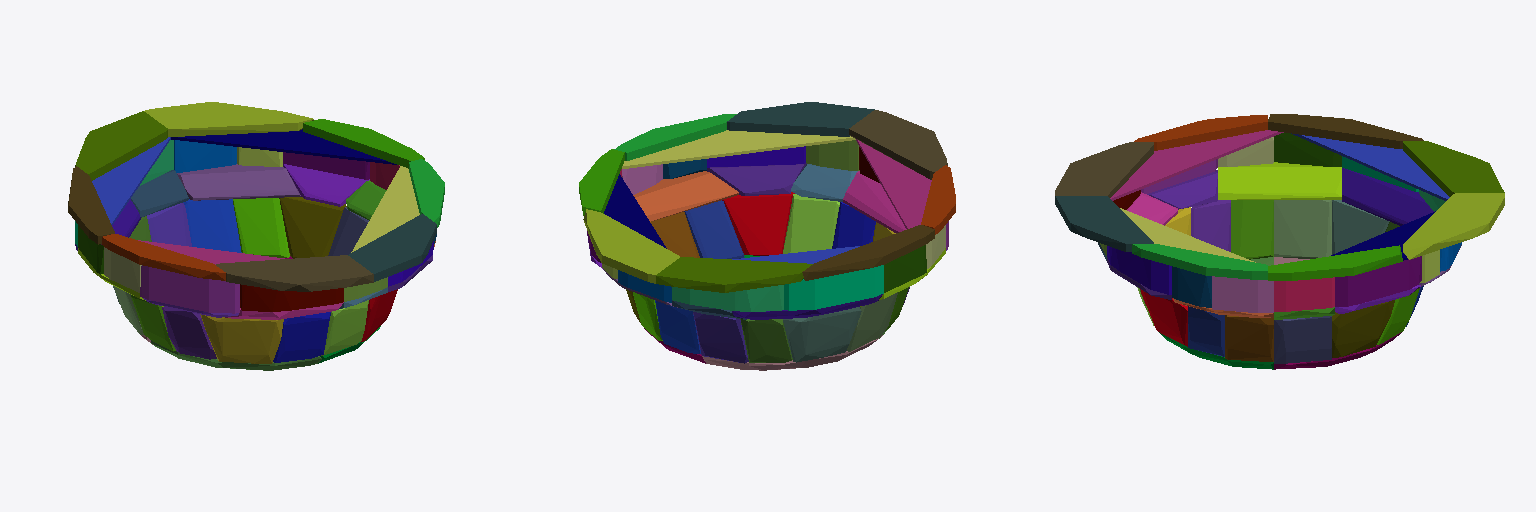
File: green_bowl.obj
The picture shows the model from 3 angles: view 1: azimuth 30°, elevation 25°; view 2: azimuth 150°, elevation 25°; view 3: azimuth 270°, elevation 25°; orthographic projection.
Parts seen in each view (by area): view 1: Shape_IndexedFaceSet.030_Shape_IndexedFaceSet.344, Shape_IndexedFaceSet.036_Shape_IndexedFaceSet.350, Shape_IndexedFaceSet.028_Shape_IndexedFaceSet.342, Shape_IndexedFaceSet.034_Shape_IndexedFaceSet.348, Shape_IndexedFaceSet.038_Shape_IndexedFaceSet.352, Shape_IndexedFaceSet.031_Shape_IndexedFaceSet.345, Shape_IndexedFaceSet.008_Shape_IndexedFaceSet.322, Shape_IndexedFaceSet.023_Shape_IndexedFaceSet.337, Shape_IndexedFaceSet.007_Shape_IndexedFaceSet.321, Shape_IndexedFaceSet.021_Shape_IndexedFaceSet.335, Shape_IndexedFaceSet.035_Shape_IndexedFaceSet.349, Shape_IndexedFaceSet.020_Shape_IndexedFaceSet.334 (+28 smaller); view 2: Shape_IndexedFaceSet.034_Shape_IndexedFaceSet.348, Shape_IndexedFaceSet.030_Shape_IndexedFaceSet.344, Shape_IndexedFaceSet.031_Shape_IndexedFaceSet.345, Shape_IndexedFaceSet.036_Shape_IndexedFaceSet.350, Shape_IndexedFaceSet.005_Shape_IndexedFaceSet.319, Shape_IndexedFaceSet.013_Shape_IndexedFaceSet.327, Shape_IndexedFaceSet.050_Shape_IndexedFaceSet.364, Shape_IndexedFaceSet.026_Shape_IndexedFaceSet.340, Shape_IndexedFaceSet.017_Shape_IndexedFaceSet.331, Shape_IndexedFaceSet.033_Shape_IndexedFaceSet.347, Shape_IndexedFaceSet.004_Shape_IndexedFaceSet.318, Shape_IndexedFaceSet.012_Shape_IndexedFaceSet.326 (+25 smaller); view 3: Shape_IndexedFaceSet.039_Shape_IndexedFaceSet.353, Shape_IndexedFaceSet.036_Shape_IndexedFaceSet.350, Shape_IndexedFaceSet.016_Shape_IndexedFaceSet.330, Shape_IndexedFaceSet.030_Shape_IndexedFaceSet.344, Shape_IndexedFaceSet.004_Shape_IndexedFaceSet.318, Shape_IndexedFaceSet.031_Shape_IndexedFaceSet.345, Shape_IndexedFaceSet.034_Shape_IndexedFaceSet.348, Shape_IndexedFaceSet.049_Shape_IndexedFaceSet.363, Shape_IndexedFaceSet.033_Shape_IndexedFaceSet.347, Shape_IndexedFaceSet.006_Shape_IndexedFaceSet.320, Shape_IndexedFaceSet.035_Shape_IndexedFaceSet.349, Shape_IndexedFaceSet.051_Shape_IndexedFaceSet.365 (+25 smaller).
Part boxes in pixels (x1,y1,x2,y2): Shape_IndexedFaceSet.030_Shape_IndexedFaceSet.344: (216, 255, 373, 291); Shape_IndexedFaceSet.036_Shape_IndexedFaceSet.350: (144, 102, 313, 136); Shape_IndexedFaceSet.028_Shape_IndexedFaceSet.342: (177, 164, 300, 200); Shape_IndexedFaceSet.034_Shape_IndexedFaceSet.348: (75, 111, 167, 180); Shape_IndexedFaceSet.038_Shape_IndexedFaceSet.352: (140, 265, 239, 313); Shape_IndexedFaceSet.031_Shape_IndexedFaceSet.345: (348, 214, 436, 281); Shape_IndexedFaceSet.008_Shape_IndexedFaceSet.322: (200, 314, 283, 363); Shape_IndexedFaceSet.023_Shape_IndexedFaceSet.337: (279, 197, 346, 258); Shape_IndexedFaceSet.007_Shape_IndexedFaceSet.321: (171, 129, 396, 164); Shape_IndexedFaceSet.021_Shape_IndexedFaceSet.335: (233, 198, 289, 257); Shape_IndexedFaceSet.035_Shape_IndexedFaceSet.349: (303, 119, 424, 168); Shape_IndexedFaceSet.020_Shape_IndexedFaceSet.334: (183, 199, 241, 252); Shape_IndexedFaceSet.034_Shape_IndexedFaceSet.348: (656, 257, 812, 292); Shape_IndexedFaceSet.030_Shape_IndexedFaceSet.344: (849, 110, 947, 179); Shape_IndexedFaceSet.031_Shape_IndexedFaceSet.345: (727, 102, 874, 136); Shape_IndexedFaceSet.036_Shape_IndexedFaceSet.350: (583, 209, 679, 283); Shape_IndexedFaceSet.005_Shape_IndexedFaceSet.319: (622, 130, 855, 168); Shape_IndexedFaceSet.013_Shape_IndexedFaceSet.327: (722, 192, 794, 255); Shape_IndexedFaceSet.050_Shape_IndexedFaceSet.364: (784, 265, 883, 310); Shape_IndexedFaceSet.026_Shape_IndexedFaceSet.340: (633, 171, 738, 221); Shape_IndexedFaceSet.017_Shape_IndexedFaceSet.331: (783, 307, 861, 362); Shape_IndexedFaceSet.033_Shape_IndexedFaceSet.347: (802, 225, 934, 280); Shape_IndexedFaceSet.004_Shape_IndexedFaceSet.318: (856, 139, 931, 228); Shape_IndexedFaceSet.012_Shape_IndexedFaceSet.326: (783, 194, 839, 253); Shape_IndexedFaceSet.039_Shape_IndexedFaceSet.353: (1218, 162, 1341, 199); Shape_IndexedFaceSet.036_Shape_IndexedFaceSet.350: (1403, 193, 1504, 259); Shape_IndexedFaceSet.016_Shape_IndexedFaceSet.330: (1274, 200, 1331, 258); Shape_IndexedFaceSet.030_Shape_IndexedFaceSet.344: (1055, 142, 1153, 197); Shape_IndexedFaceSet.004_Shape_IndexedFaceSet.318: (1110, 130, 1283, 200); Shape_IndexedFaceSet.031_Shape_IndexedFaceSet.345: (1055, 196, 1153, 251); Shape_IndexedFaceSet.034_Shape_IndexedFaceSet.348: (1403, 141, 1504, 196); Shape_IndexedFaceSet.049_Shape_IndexedFaceSet.363: (1342, 168, 1433, 225); Shape_IndexedFaceSet.033_Shape_IndexedFaceSet.347: (1268, 114, 1423, 148); Shape_IndexedFaceSet.006_Shape_IndexedFaceSet.320: (1291, 133, 1449, 200); Shape_IndexedFaceSet.035_Shape_IndexedFaceSet.349: (1268, 245, 1402, 280); Shape_IndexedFaceSet.051_Shape_IndexedFaceSet.365: (1335, 256, 1421, 306).
Bounding box in the file's own units: 0.24 × 0.0885 × 0.2873.